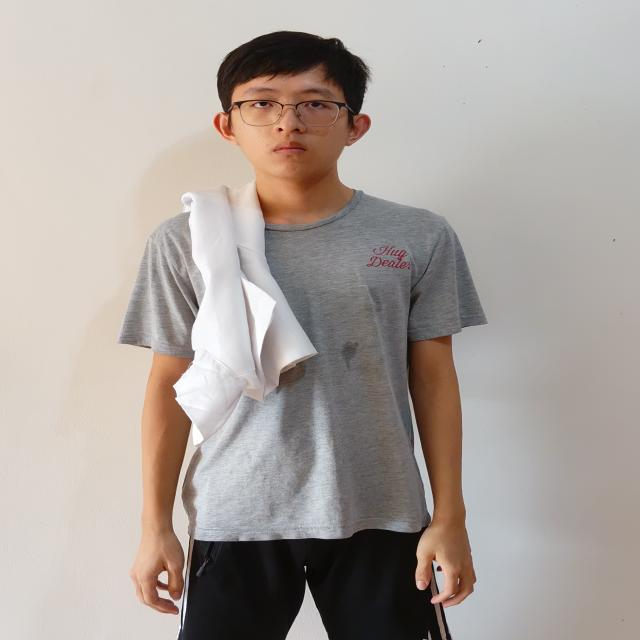person_without_labcoat: (118, 32, 486, 640)
